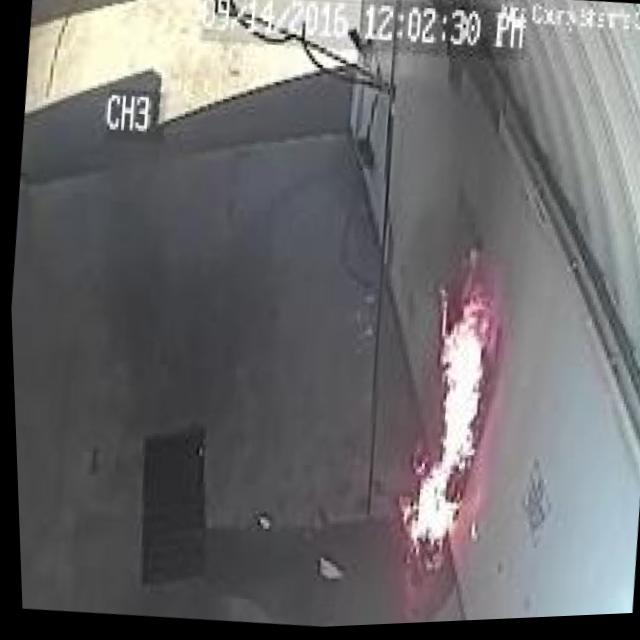fire: (385, 266, 518, 570)
